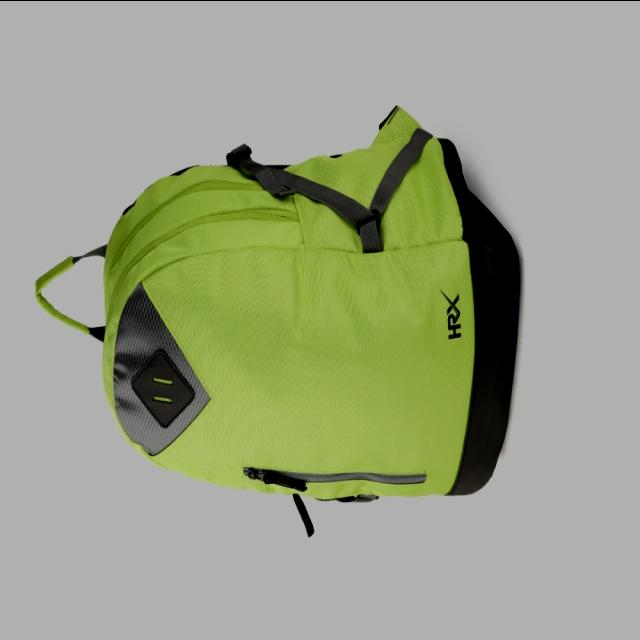backpack: (35, 105, 522, 537)
